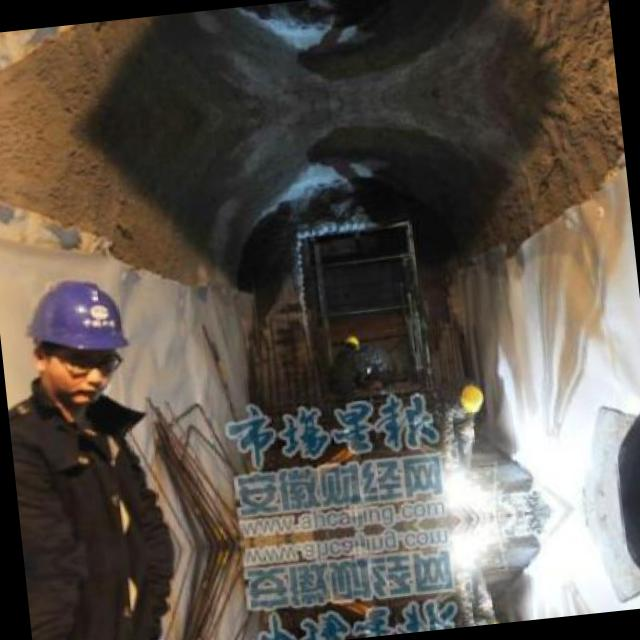helmet: (19, 262, 140, 411), (453, 383, 485, 415), (344, 332, 359, 350)
